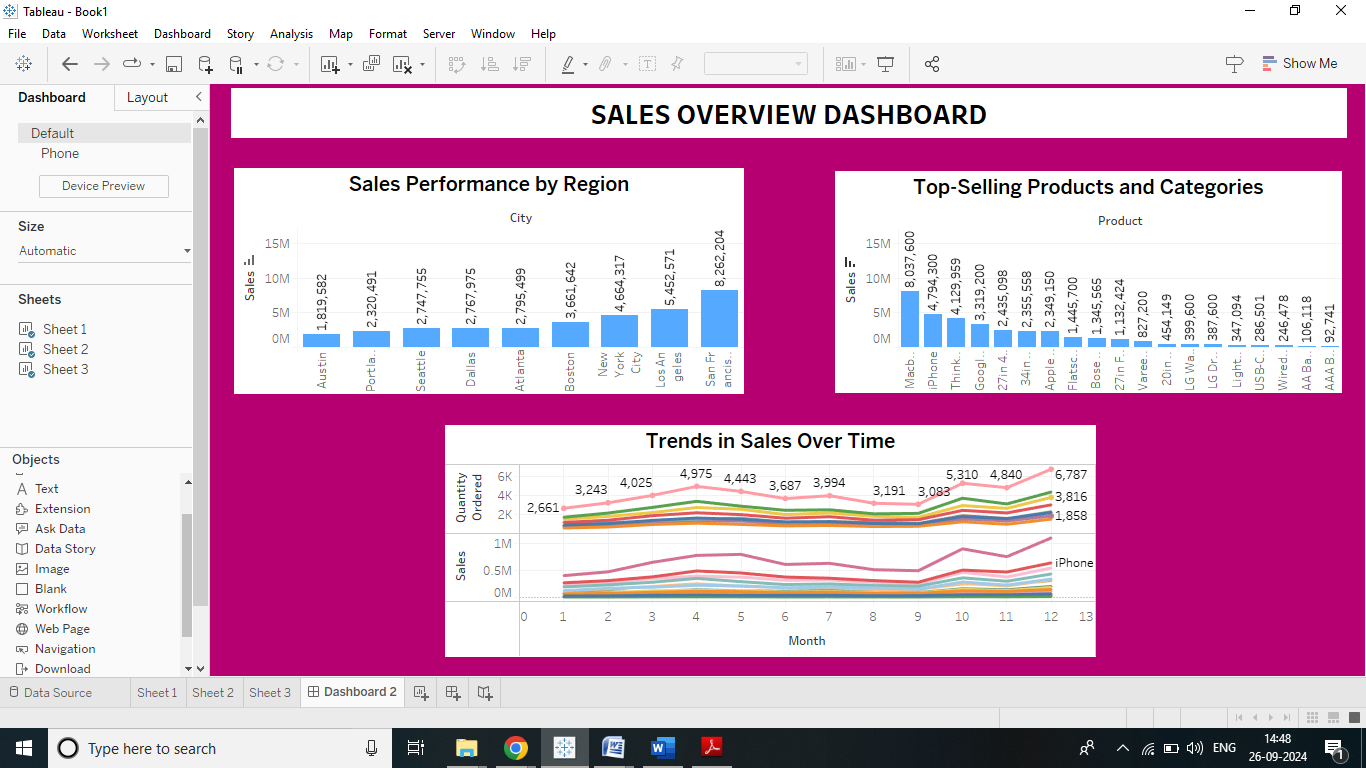

What the dashboard file says about the page in this screenshot:
{"tool":"tableau","page":{"name":"Dashboard 2","canvas":[1000,1000],"units":"permille","ordinal":0},"visuals":[{"type":"text","box":[18,7.5,966,85]},{"type":"worksheet","title":"Sheet 1","mark":"Automatic","rows":["Sales"],"cols":["City"],"box":[20.8,141.9,441.6,381.8]},{"type":"worksheet","title":"Sheet 2","mark":"Automatic","rows":["Sales"],"cols":["Product"],"box":[541.1,147,439,375]},{"type":"worksheet","title":"Sheet 3","mark":"Automatic","rows":["Quantity Ordered","Sales"],"cols":["Month"],"box":[203.5,576,563.6,391.9]}]}

Visuals, with their boxes on the dashboard's canvas, which has no fixed pixel size, in thousandths of its width and height (x1, y1, x2, y2). These are canvas units, not pixel positions in the 1366x768 screenshot, which may show the page scaled, cropped or inside an application window:
text: 18,8,984,92
"Sheet 1" worksheet: 21,142,462,524
"Sheet 2" worksheet: 541,147,980,522
"Sheet 3" worksheet: 204,576,767,968
